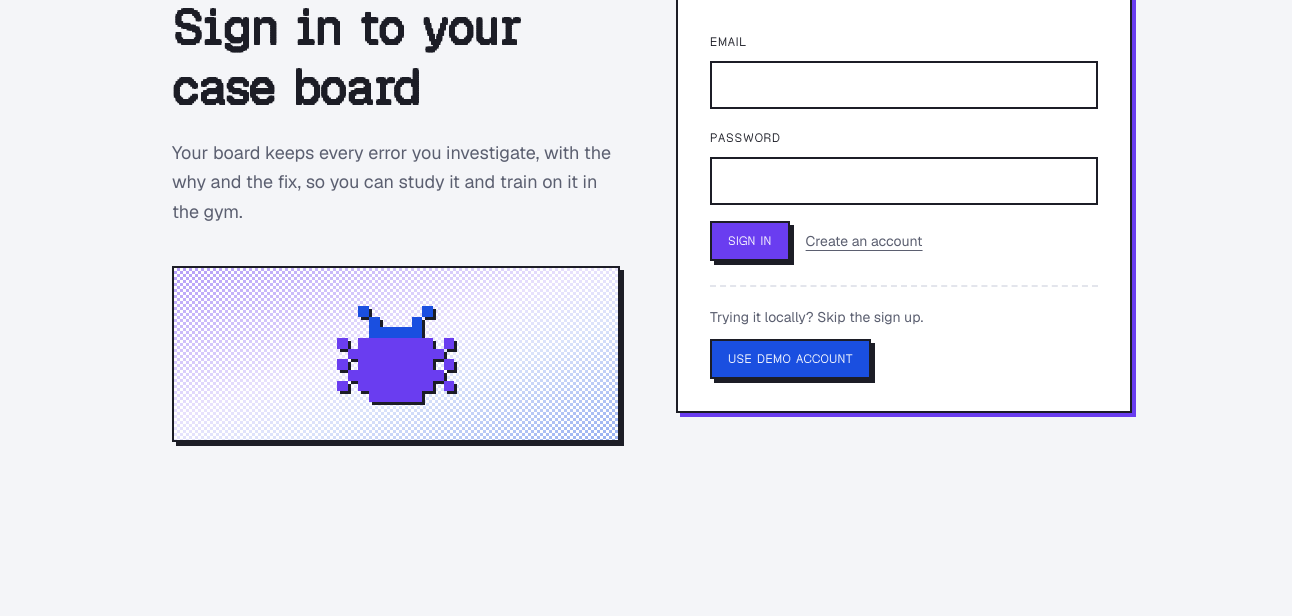
Scenario: creates an account
This screenshot has width=1292, height=616.
Click the button "Create an account". click: click(864, 241)
box: top-left (806, 231), bottom-right (923, 251)
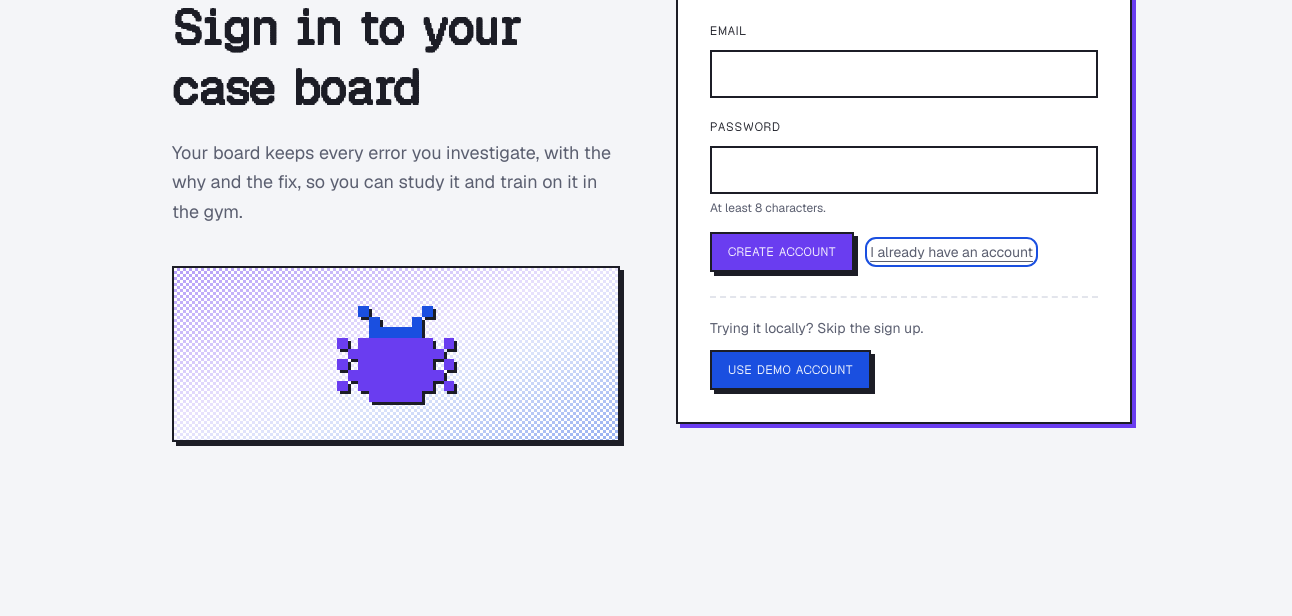
Type "ada@example.com" into the field labelled "Email". click: (904, 74)
box: top-left (710, 50), bottom-right (1098, 98)
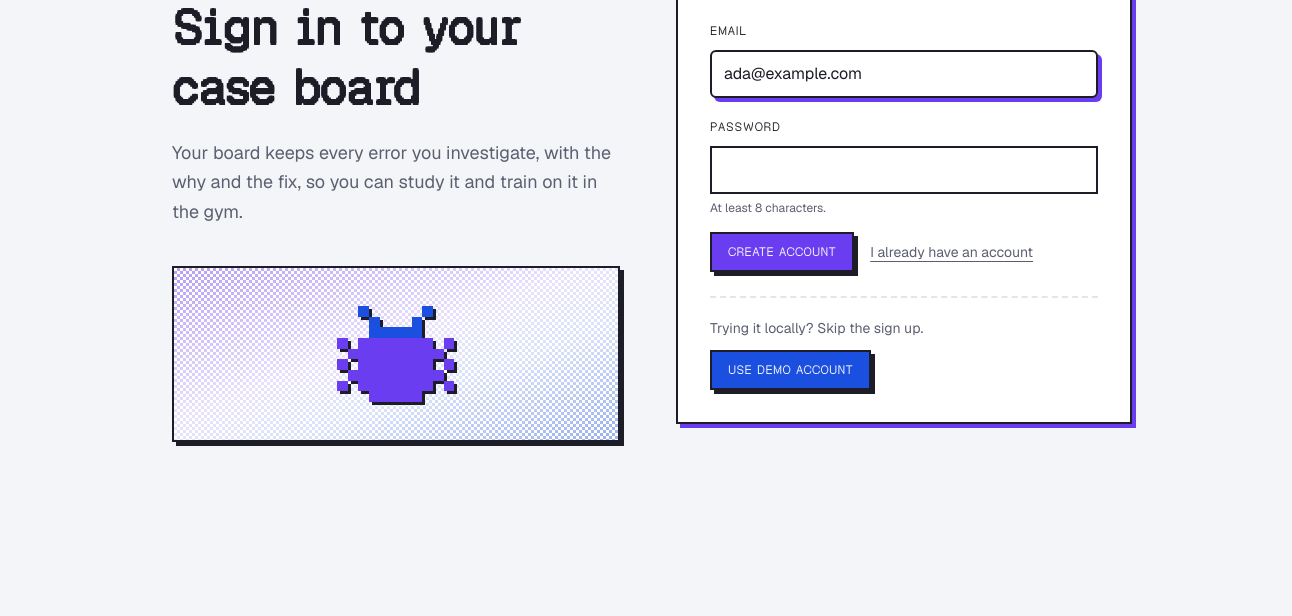
Type "correct horse" into the password field labelled "Password". click: (904, 170)
box: top-left (710, 146), bottom-right (1098, 194)
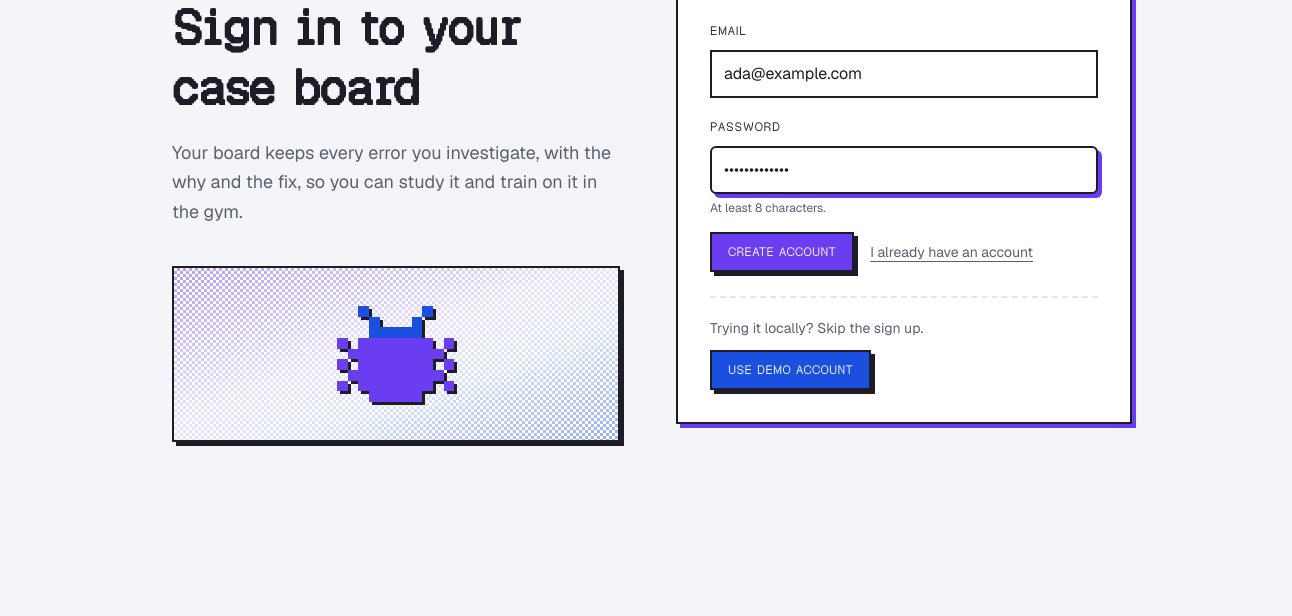
Click the button "Create account". click: click(782, 252)
box: top-left (710, 232), bottom-right (854, 272)
(page scrolled)
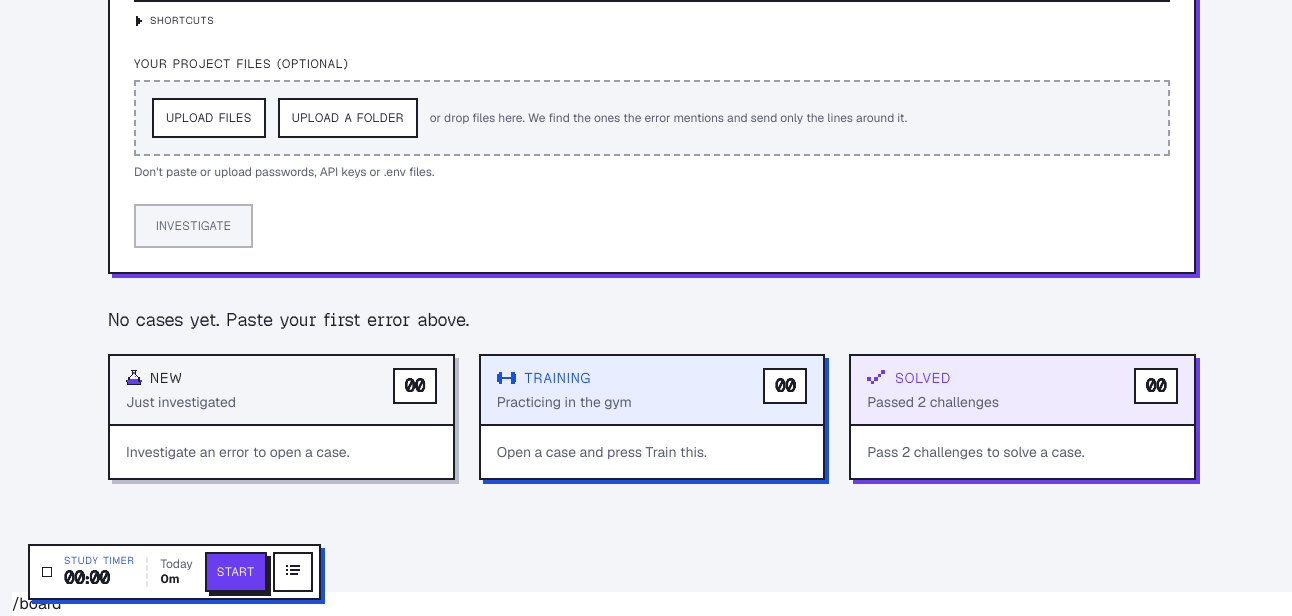
Now the text with test id "location" reads "/board", box top-left (12, 593), bottom-right (62, 614)
